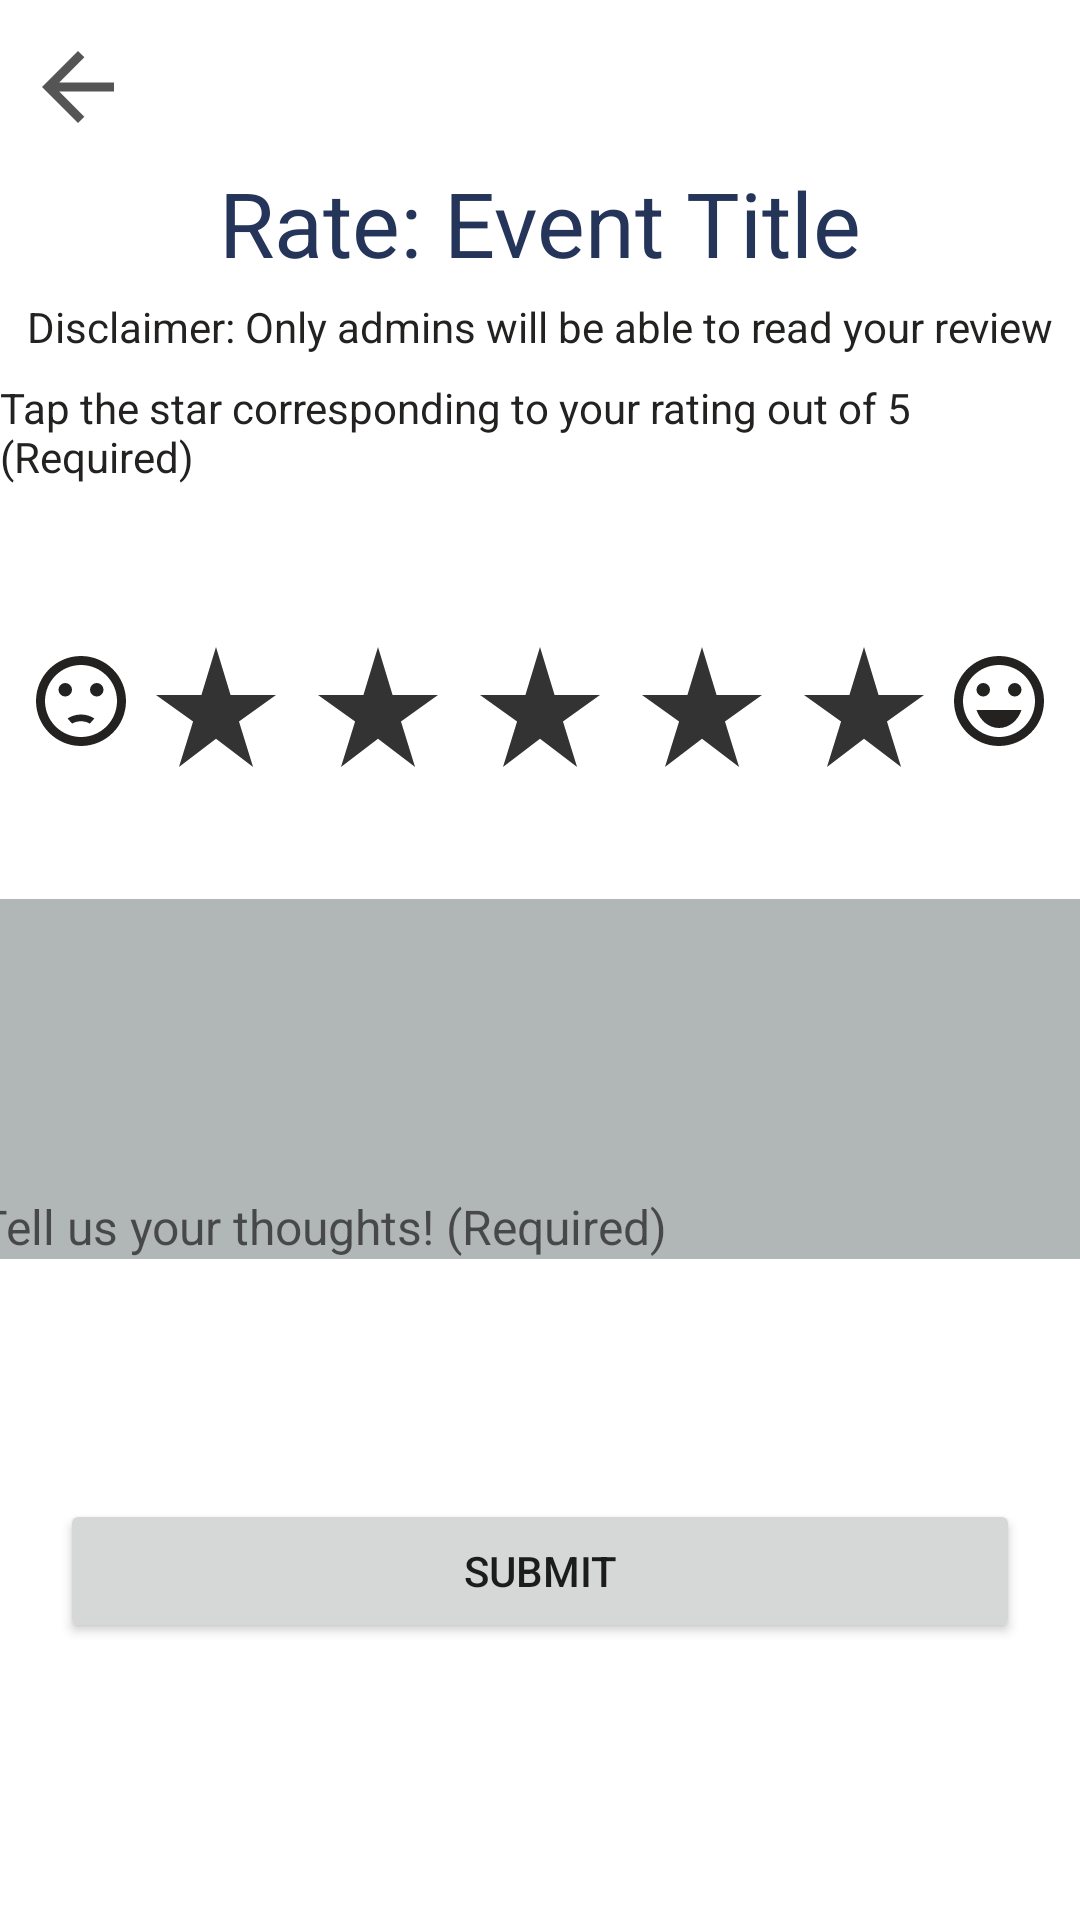

Icons on this 1080w x 1920h Android screen, each with the point to tap as [x,y]:
1 Star: [216,707]
2 Stars: [378,707]
3 Stars: [540,707]
4 Stars: [702,707]
5 Stars: [864,707]
Back: [78,87]
bigsad: [81,701]
veryhappy: [999,701]
